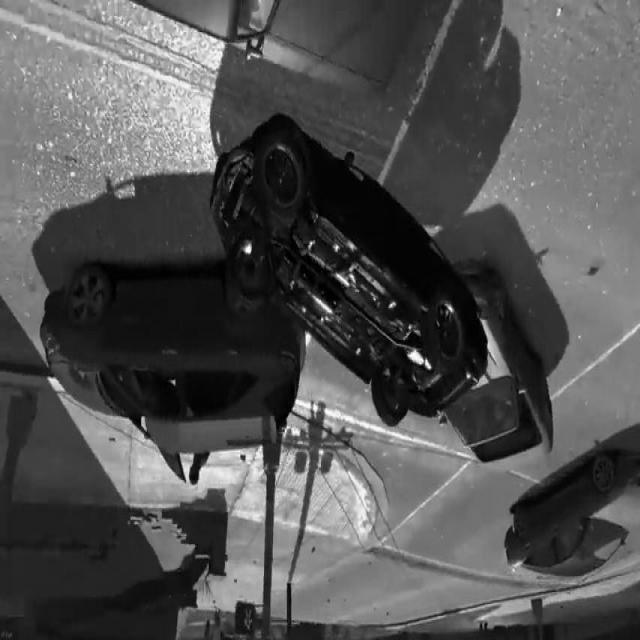severe: (206, 110, 490, 433)
